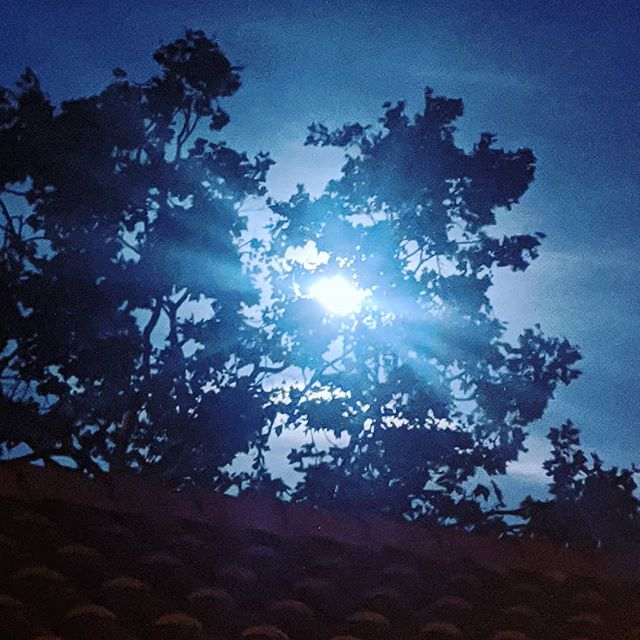sun: (312, 267, 368, 322)
tree: (280, 47, 593, 580), (2, 16, 277, 526)
